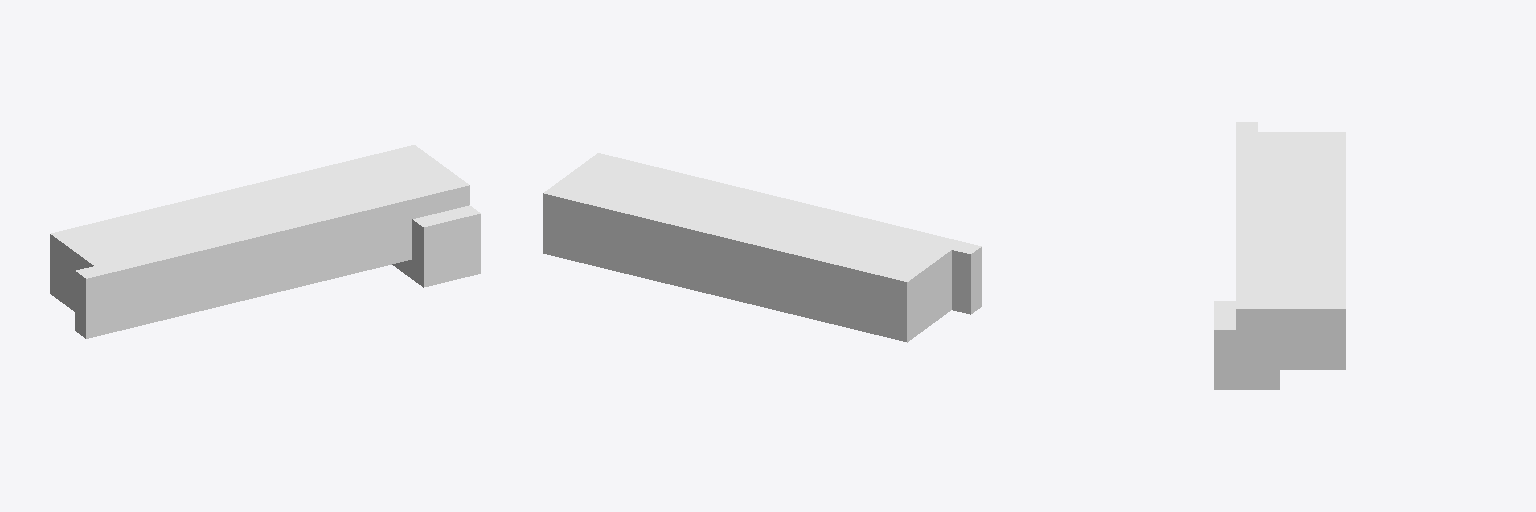
The model's file is hitler-2.obj.
3 views of the same model, side by side, from view 1: azimuth 30°, elevation 25°; view 2: azimuth 150°, elevation 25°; view 3: azimuth 270°, elevation 25° (orthographic).
Parts seen in each view (by area): view 1: object 1; view 2: object 1; view 3: object 1.
Boxes of the visible parts, <box> form: object 1: <box>50,145,480,338</box>; object 1: <box>543,153,981,342</box>; object 1: <box>1214,122,1345,389</box>.
Bounding box in the file's own units: 2 × 0.4 × 0.6.